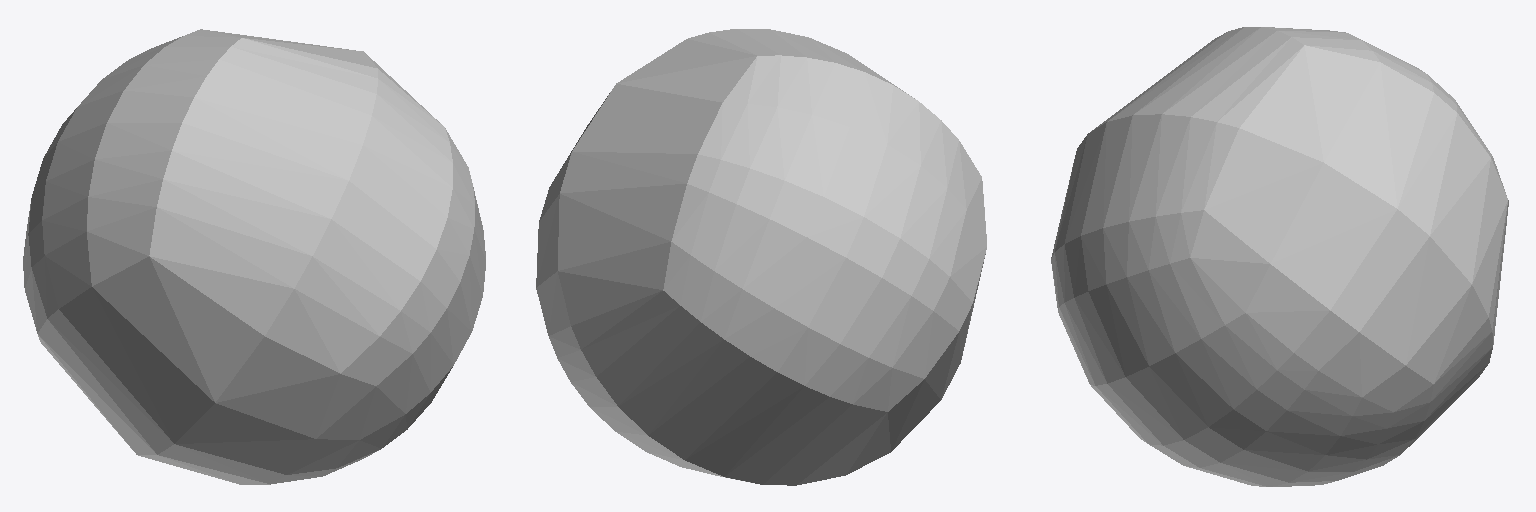
The model's file is Body_low.obj.
3 views of the same model, side by side, from view 1: azimuth 30°, elevation 25°; view 2: azimuth 150°, elevation 25°; view 3: azimuth 270°, elevation 25° (orthographic).
Parts seen in each view (by area): view 1: initialShadingGroup Box001; view 2: initialShadingGroup Box001; view 3: initialShadingGroup Box001.
Boxes of the visible parts, <box> form: initialShadingGroup Box001: <box>23,29,485,484</box>; initialShadingGroup Box001: <box>536,29,986,485</box>; initialShadingGroup Box001: <box>1051,27,1508,486</box>.
Size of the model in its own units: 7.64 by 7.61 by 7.53.